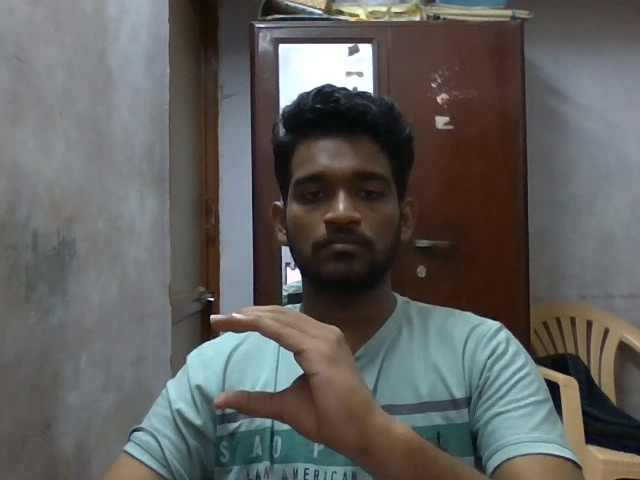C: (196, 293, 372, 461)
